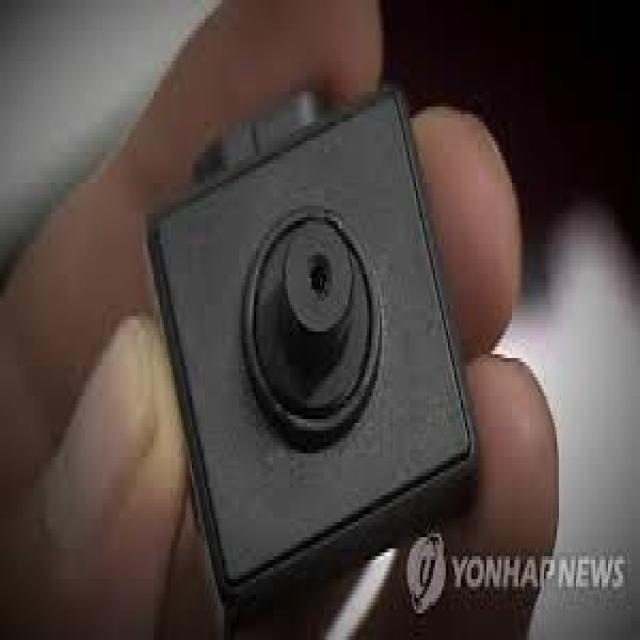hidden camera: (308, 258, 328, 298)
